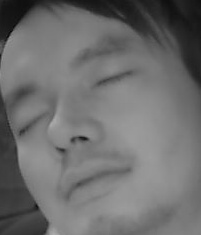blink: (92, 68, 130, 92), (19, 110, 53, 136)
mouth: (57, 158, 130, 205)
